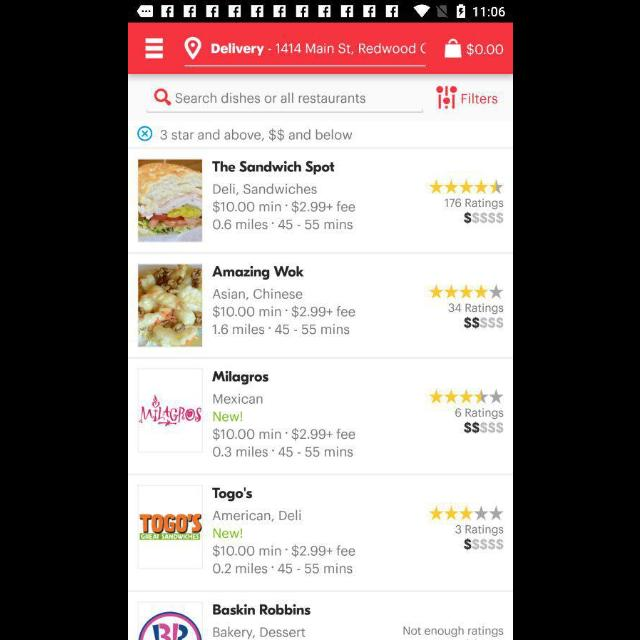icon: (428, 284, 504, 300), (428, 388, 504, 404), (428, 505, 504, 521), (429, 180, 503, 194), (144, 38, 164, 60), (184, 37, 202, 61), (443, 39, 461, 59), (154, 90, 170, 106), (136, 126, 152, 142)
image: (138, 486, 202, 570), (138, 369, 202, 453), (138, 264, 202, 348), (138, 160, 202, 242), (138, 602, 202, 640), (435, 86, 457, 110)
input: (146, 88, 422, 114)
text: (211, 288, 355, 336), (211, 183, 355, 231), (211, 544, 355, 574), (212, 428, 356, 458), (210, 42, 426, 56), (160, 129, 352, 143), (175, 92, 365, 104), (212, 160, 334, 176), (213, 626, 305, 640), (212, 266, 304, 280), (402, 625, 502, 637), (212, 604, 310, 616), (212, 510, 300, 522), (212, 371, 268, 385), (443, 198, 502, 210), (447, 303, 503, 315), (212, 486, 252, 502), (212, 393, 264, 405), (453, 407, 502, 419), (455, 524, 503, 536), (463, 538, 503, 552), (463, 316, 502, 329), (466, 44, 502, 58), (463, 212, 503, 224), (463, 422, 503, 434), (460, 93, 498, 105), (214, 527, 242, 539), (212, 412, 242, 422)
uppertaskbar: (128, 1, 512, 23)
